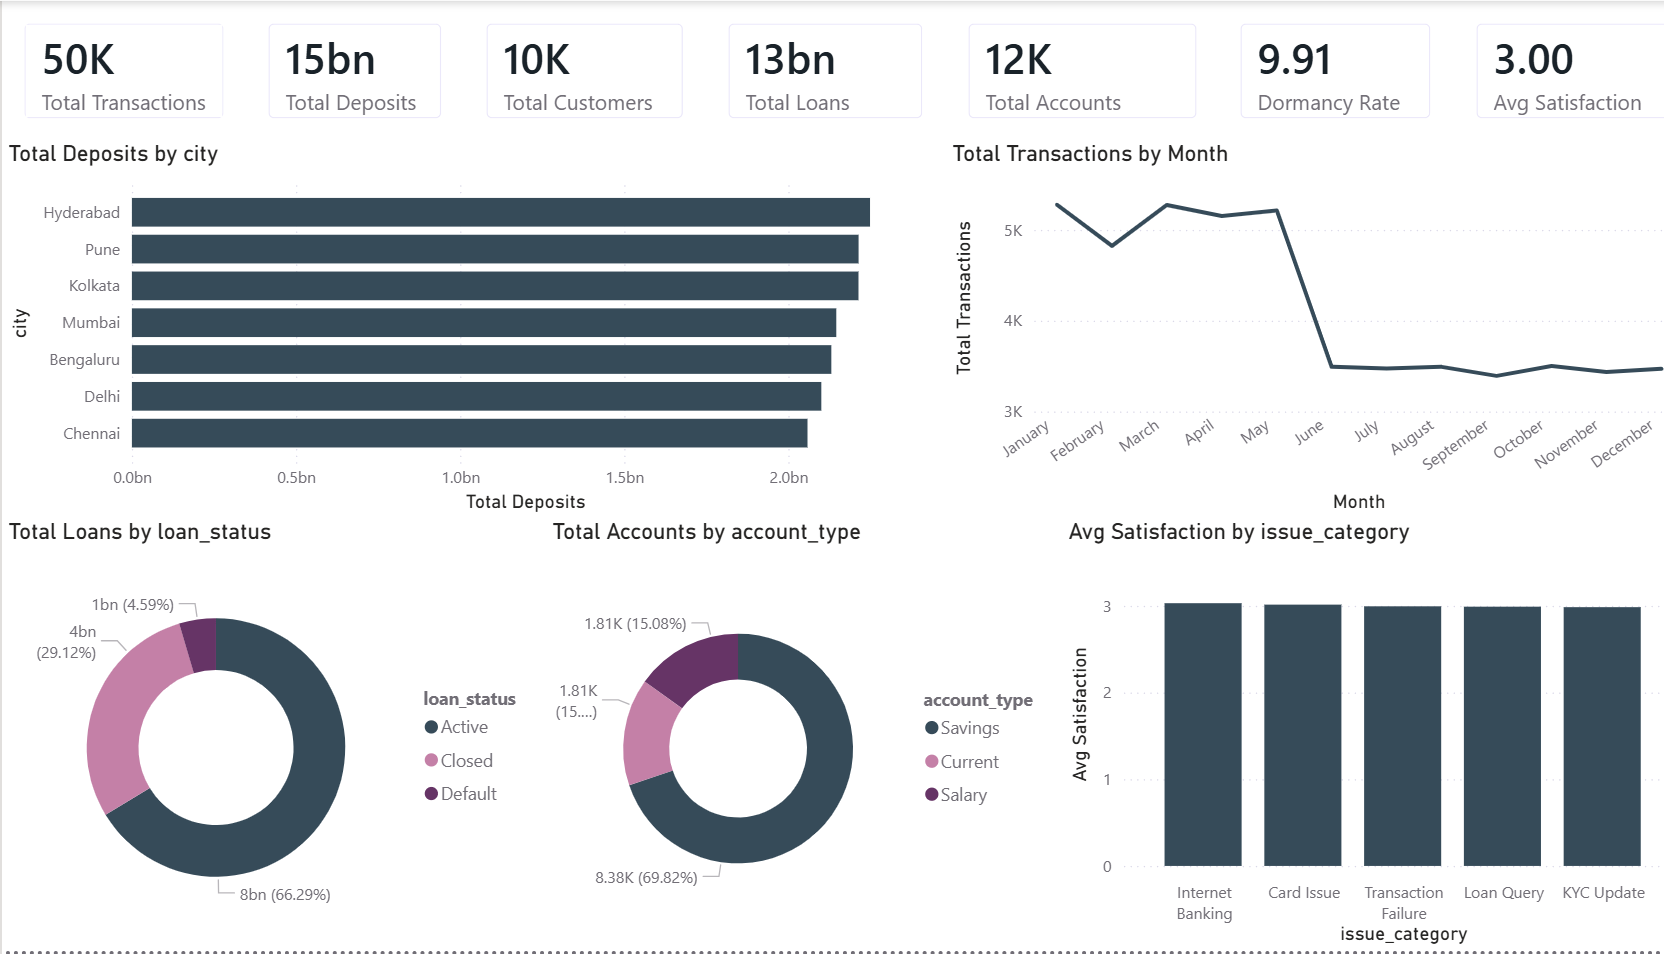

The dashboard page shown, as its layout file describes it:
{"tool":"powerbi","page":{"name":"Executive Summary","canvas":[1280,720],"ordinal":0},"visuals":[{"type":"cardVisual","fields":{"Data":["accounts (1).Total Customers"]},"box":[350.3,0,183.5,106.2],"z":0},{"type":"cardVisual","fields":{"Data":["accounts.Total Accounts"]},"box":[715.8,0,207.8,106.2],"z":1000},{"type":"cardVisual","fields":{"Data":["loans.Total Loans"]},"box":[533.8,0,182,106.2],"z":2000},{"type":"cardVisual","fields":{"Data":["transactions.Total Transactions"]},"box":[0,0,185,106.2],"z":3000},{"type":"cardVisual","fields":{"Data":["accounts.Dormancy Rate"]},"box":[922.1,0,179,106.2],"z":5000},{"type":"cardVisual","fields":{"Data":["support_tickets.Avg Satisfaction"]},"box":[1101,0,180.5,106.2],"z":6000},{"type":"clusteredBarChart","fields":{"Category":["customers.city"],"Y":["accounts.Total Deposits"]},"box":[0,106.2,715.8,286.6],"z":8000},{"type":"lineChart","fields":{"Y":["transactions.Total Transactions"],"Category":["transactions.transaction_date.Variation.Date Hierarchy.Month"]},"box":[715.8,106.2,564.2,286.6],"z":9000},{"type":"donutChart","fields":{"Y":["loans.Total Loans"],"Category":["loans.loan_status"]},"box":[0,392.8,412.5,327.6],"z":10000},{"type":"cardVisual","fields":{"Data":["accounts.Total Deposits"]},"box":[185,0,165.3,106.2],"z":10500},{"type":"donutChart","fields":{"Category":["accounts.account_type"],"Y":["accounts.Total Accounts"]},"box":[412.5,392.8,391.3,329.1],"z":11000},{"type":"clusteredColumnChart","fields":{"Category":["support_tickets.issue_category"],"Y":["support_tickets.Avg Satisfaction"]},"box":[803.8,392.8,476.2,327.6],"z":12000}]}

Visuals, with their boxes in screenshot pixels (x1, y1, x2, y2), scaled from the page's 1280x720 canvas onto the 1664x954 screenshot:
cardVisual - accounts (1).Total Customers: 455 0 694 141
cardVisual - accounts.Total Accounts: 931 0 1201 141
cardVisual - loans.Total Loans: 694 0 931 141
cardVisual - transactions.Total Transactions: 0 0 240 141
cardVisual - accounts.Dormancy Rate: 1199 0 1431 141
cardVisual - support_tickets.Avg Satisfaction: 1431 0 1663 141
clusteredBarChart - customers.city x accounts.Total Deposits: 0 141 931 520
lineChart - transactions.Total Transactions x transactions.transaction_date.Variation.Date Hierarchy.Month: 931 141 1663 520
donutChart - loans.Total Loans x loans.loan_status: 0 520 536 953
cardVisual - accounts.Total Deposits: 240 0 455 141
donutChart - accounts.account_type x accounts.Total Accounts: 536 520 1045 953
clusteredColumnChart - support_tickets.issue_category x support_tickets.Avg Satisfaction: 1045 520 1663 953
